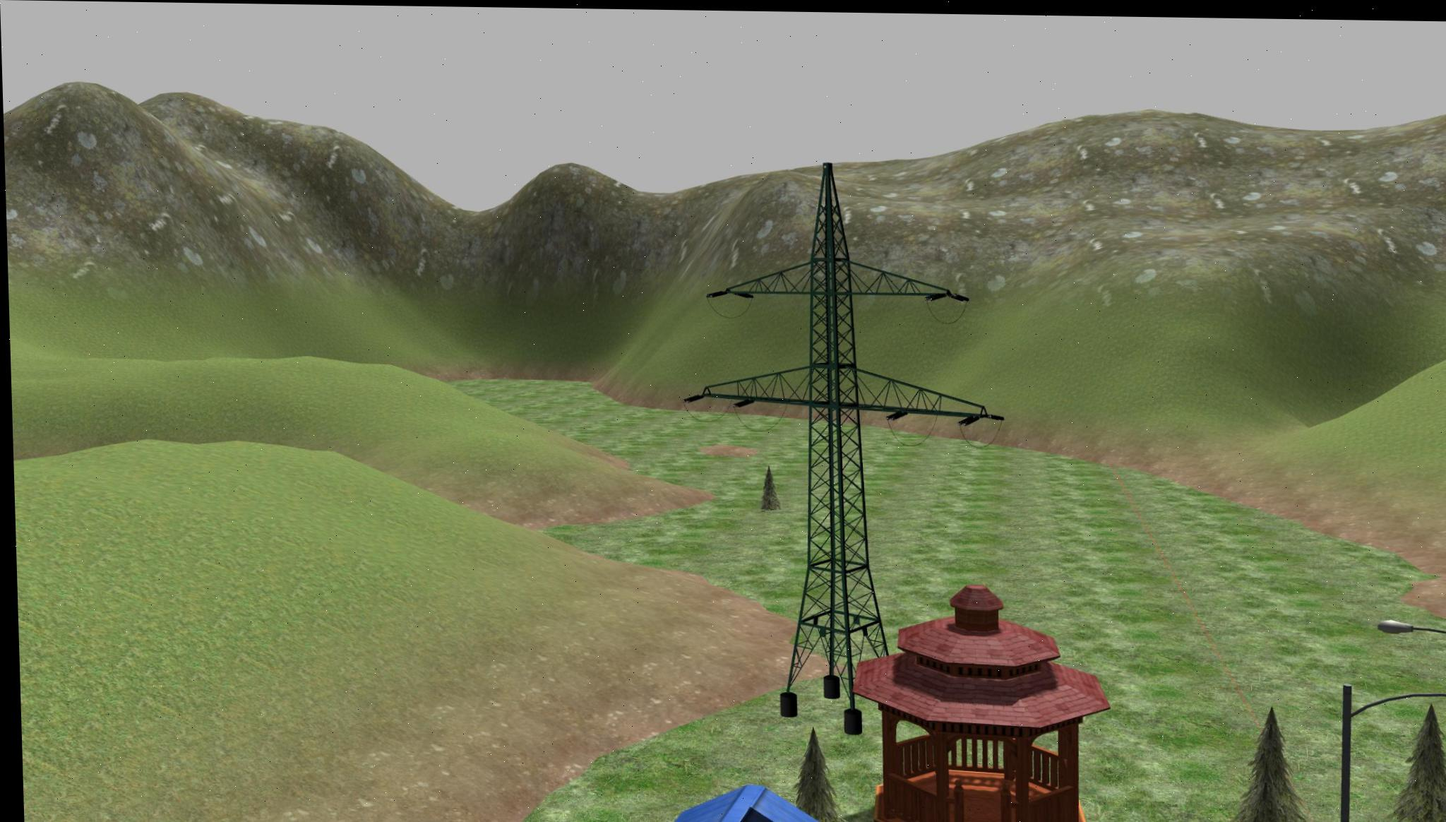tower: (692, 159, 994, 621)
